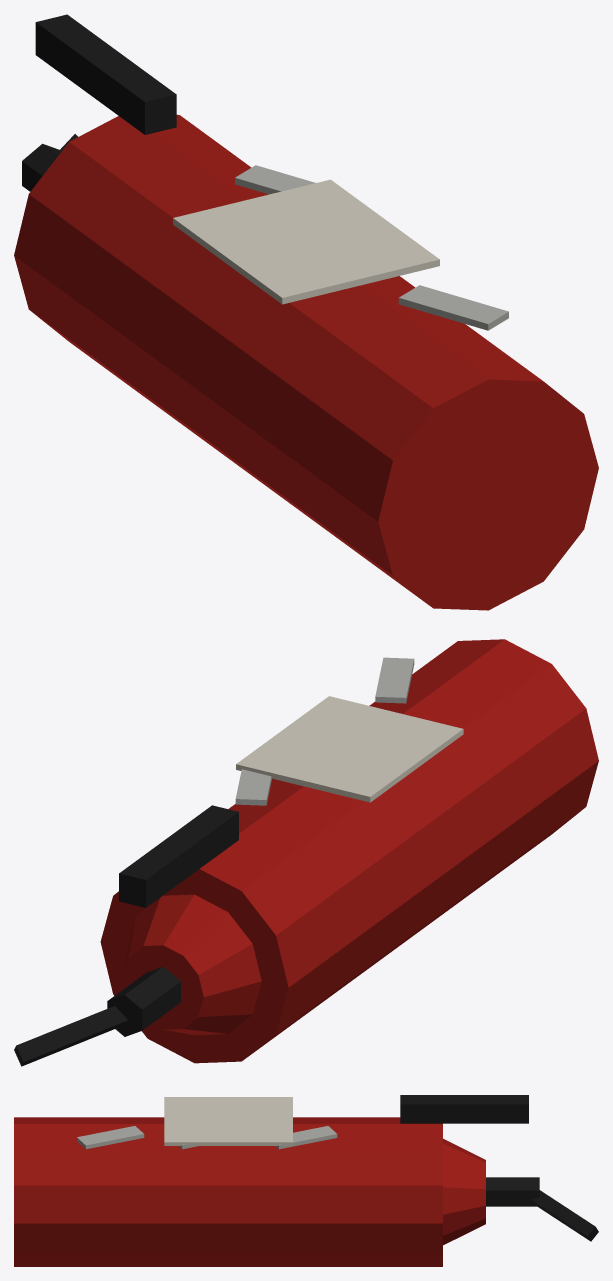
The model's file is extinguisher_w1.glb.
The picture shows the model from 3 angles, top to bottom: view 1: azimuth 30°, elevation 25°; view 2: azimuth 150°, elevation 25°; view 3: azimuth 270°, elevation 25°; orthographic projection. The views are drawn at different scales.
Visible parts, largest first — view 1: extinguisher_w1; view 2: extinguisher_w1; view 3: extinguisher_w1.
Part boxes in pixels (x1,y1,x2,y2): extinguisher_w1: (14, 14, 598, 610); extinguisher_w1: (14, 639, 598, 1066); extinguisher_w1: (14, 1095, 598, 1266).
Size of the model in its own units: 0.14 by 0.165 by 0.5453.
